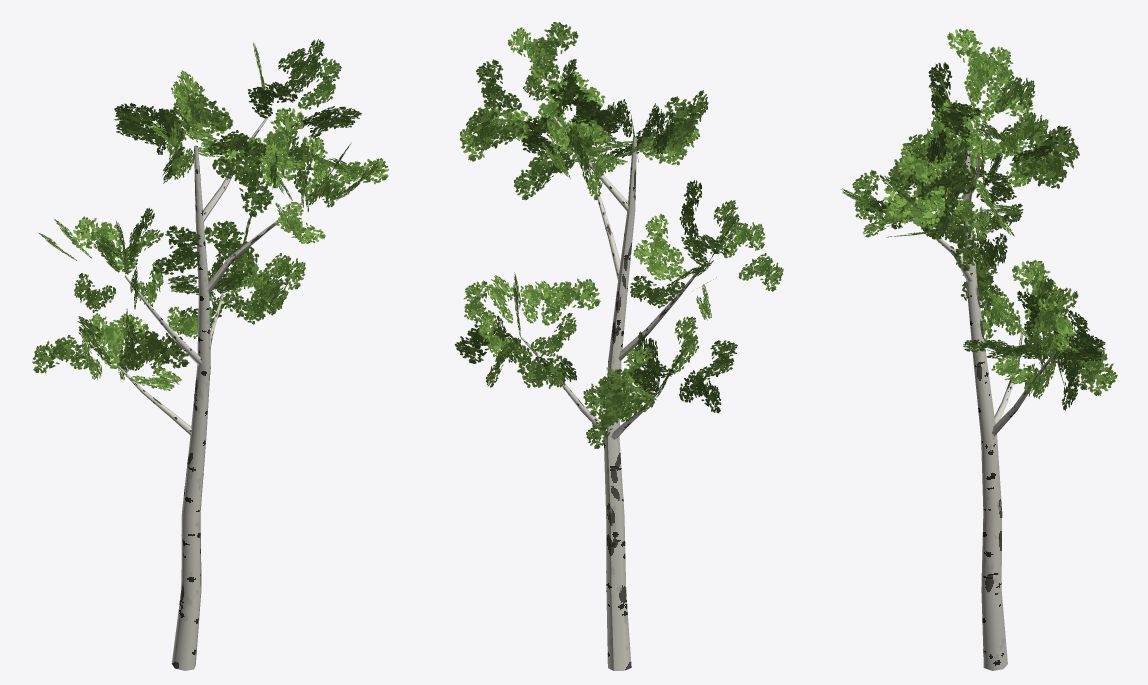
File: flora_birch.glb
3 views of the same model, side by side, from view 1: azimuth 30°, elevation 25°; view 2: azimuth 150°, elevation 25°; view 3: azimuth 270°, elevation 25° (orthographic). The views are drawn at different scales.
Parts seen in each view (by area): view 1: flora_birch; view 2: flora_birch; view 3: flora_birch.
Boxes of the visible parts, bbox=[...] form: flora_birch: bbox=[32, 39, 388, 670]; flora_birch: bbox=[454, 22, 783, 670]; flora_birch: bbox=[840, 28, 1117, 670].
Bounding box in the file's own units: 5.32 × 9.94 × 4.45.
2 materials, 2 textured.
